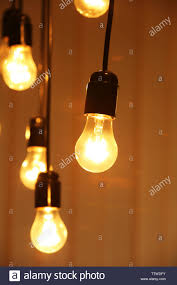bulb: (66, 96, 123, 177), (20, 203, 81, 256), (11, 137, 63, 189), (2, 41, 45, 96)
